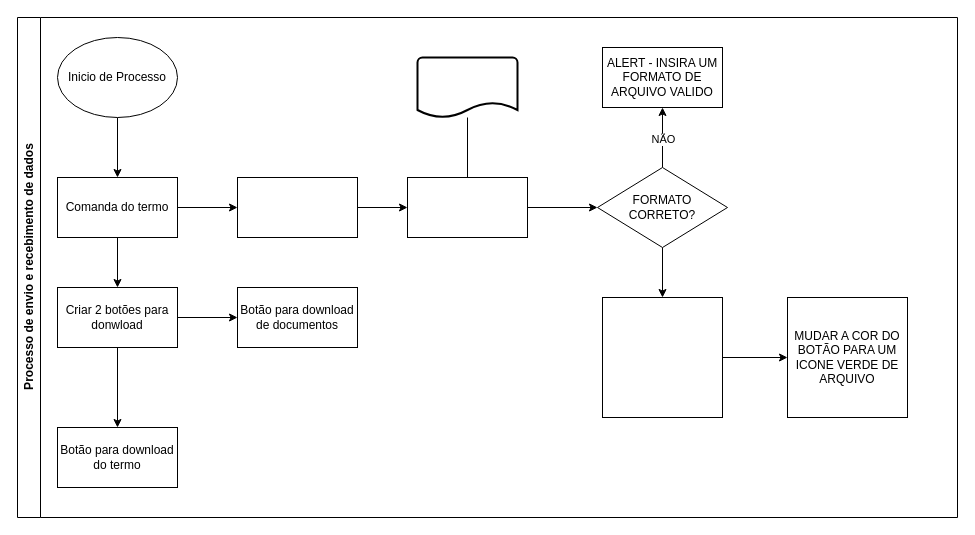
Some shapes in this 975 by 535 pixel diagram are drawn without their labels. The centre of each missing label's shape, as x and y in pixels:
"Após clicar, abrir os arquivos a serem selecionados" belongs at point (467, 207).
"Criar botão de upload" belongs at point (297, 207).
"ENVIO PARA A API" belongs at point (662, 357).
"PNG / JPG / JPEG / PDF" belongs at point (467, 87).
